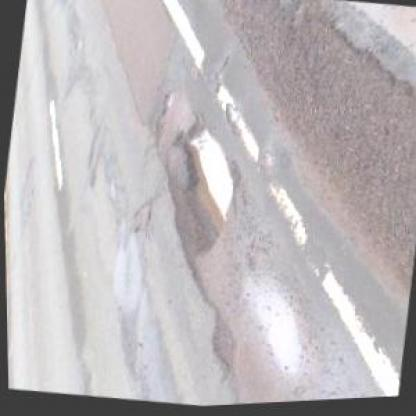pothole: (151, 112, 248, 262), (203, 318, 244, 375), (156, 89, 174, 116)
